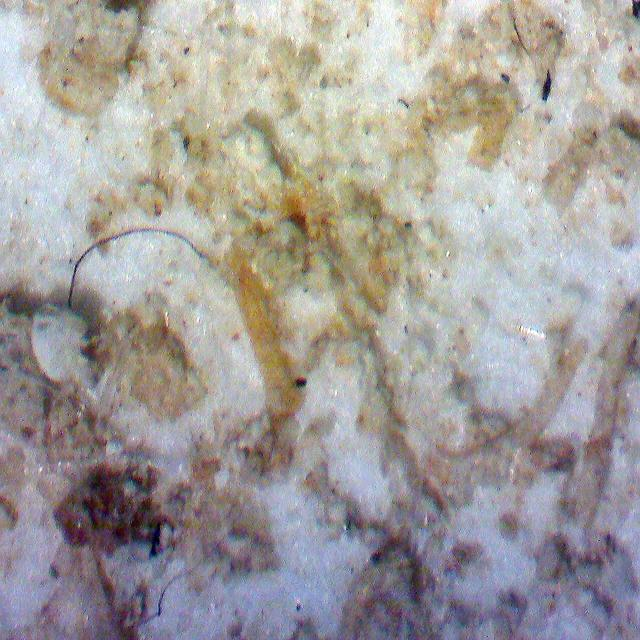microplastic: (69, 228, 208, 306)
